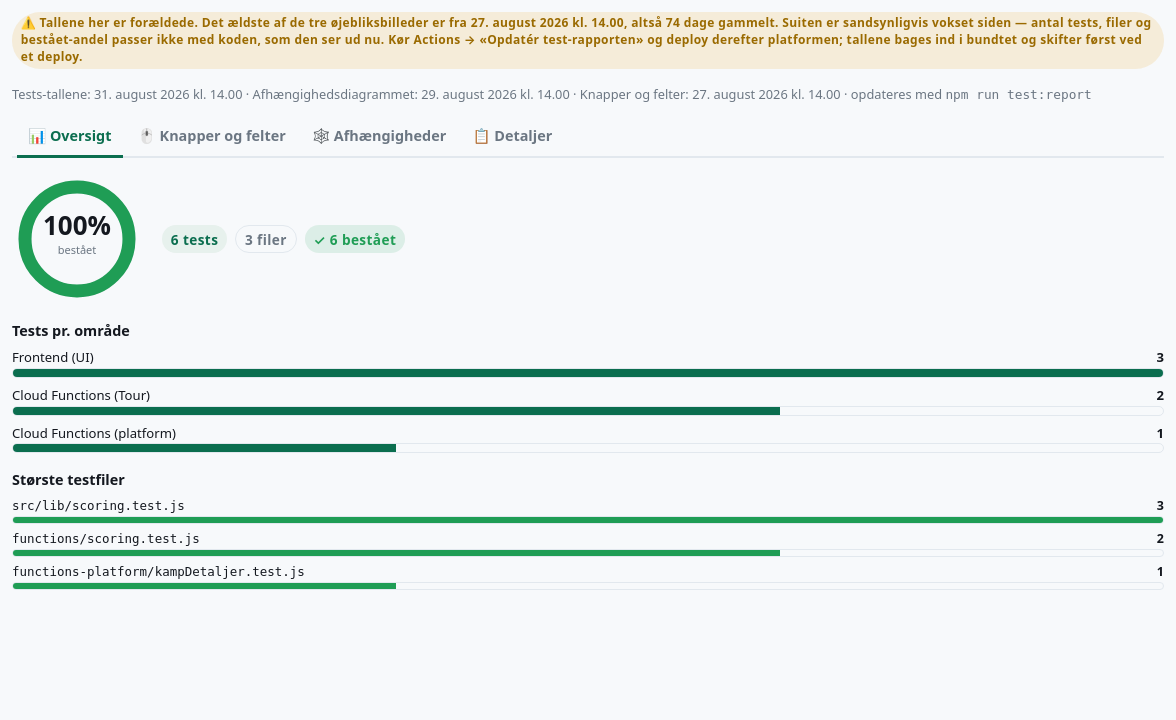
it: TestsTab › afhængigheds-fanen viser et diagram
Step 1. Click the tab with test id "subtab-deps" → (379, 137), box [301,116,457,158]
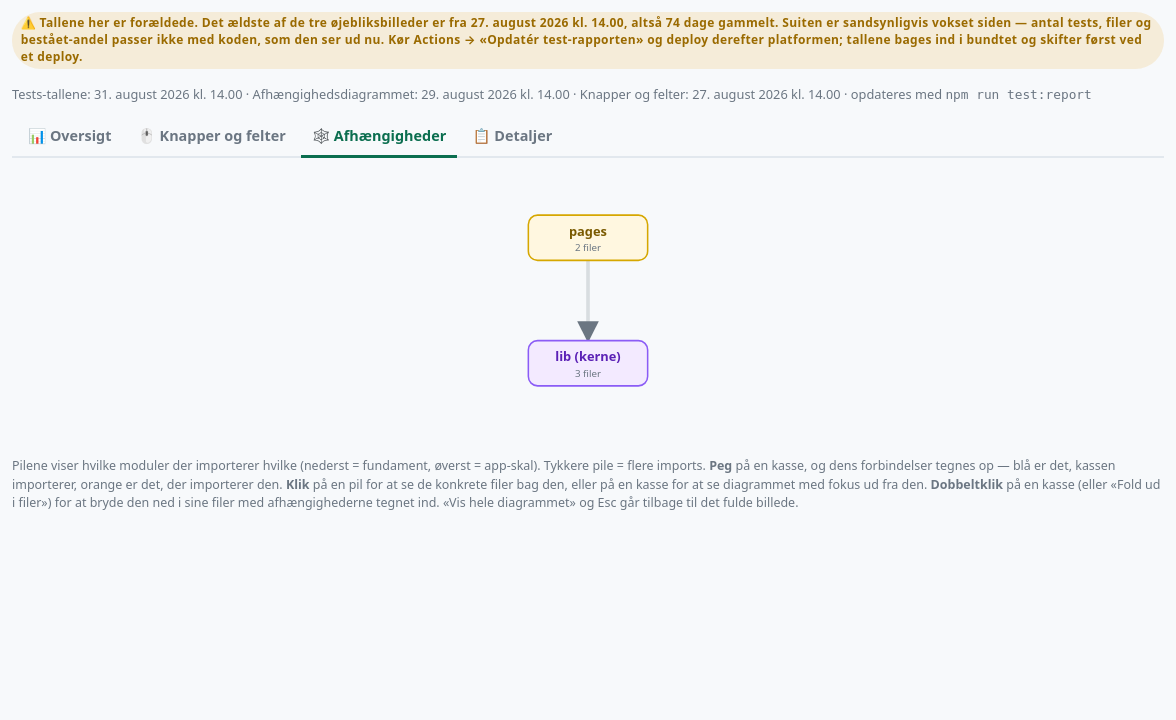
Expected: the picture named "Afhængighedsdiagram" is shown, [12,174,1164,427]
